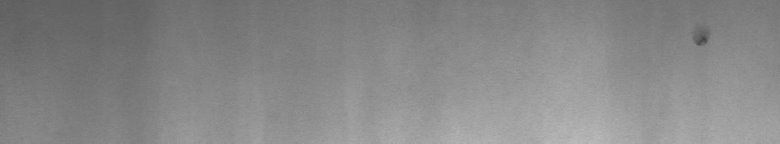fi: (692, 31, 712, 52)
